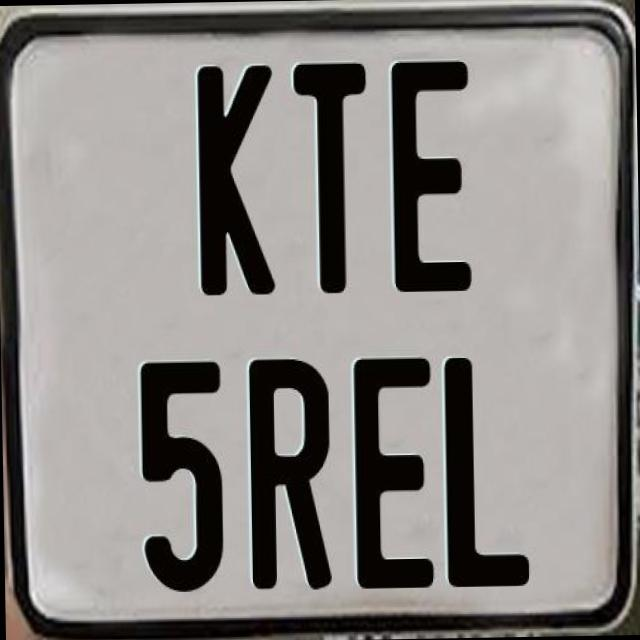5: (139, 361, 229, 594)
E: (351, 352, 438, 592), (388, 55, 474, 287)
K: (195, 62, 281, 295)
L: (442, 351, 534, 582)
R: (246, 356, 332, 596)
T: (290, 59, 370, 294)
